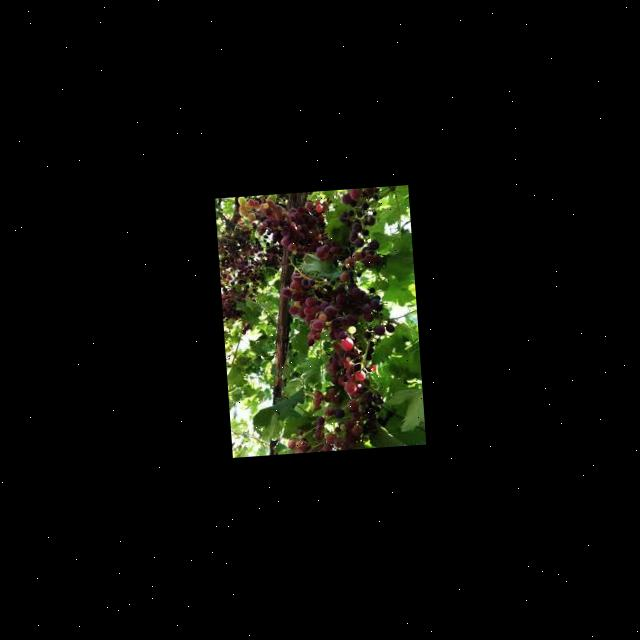grape: (216, 185, 407, 455)
